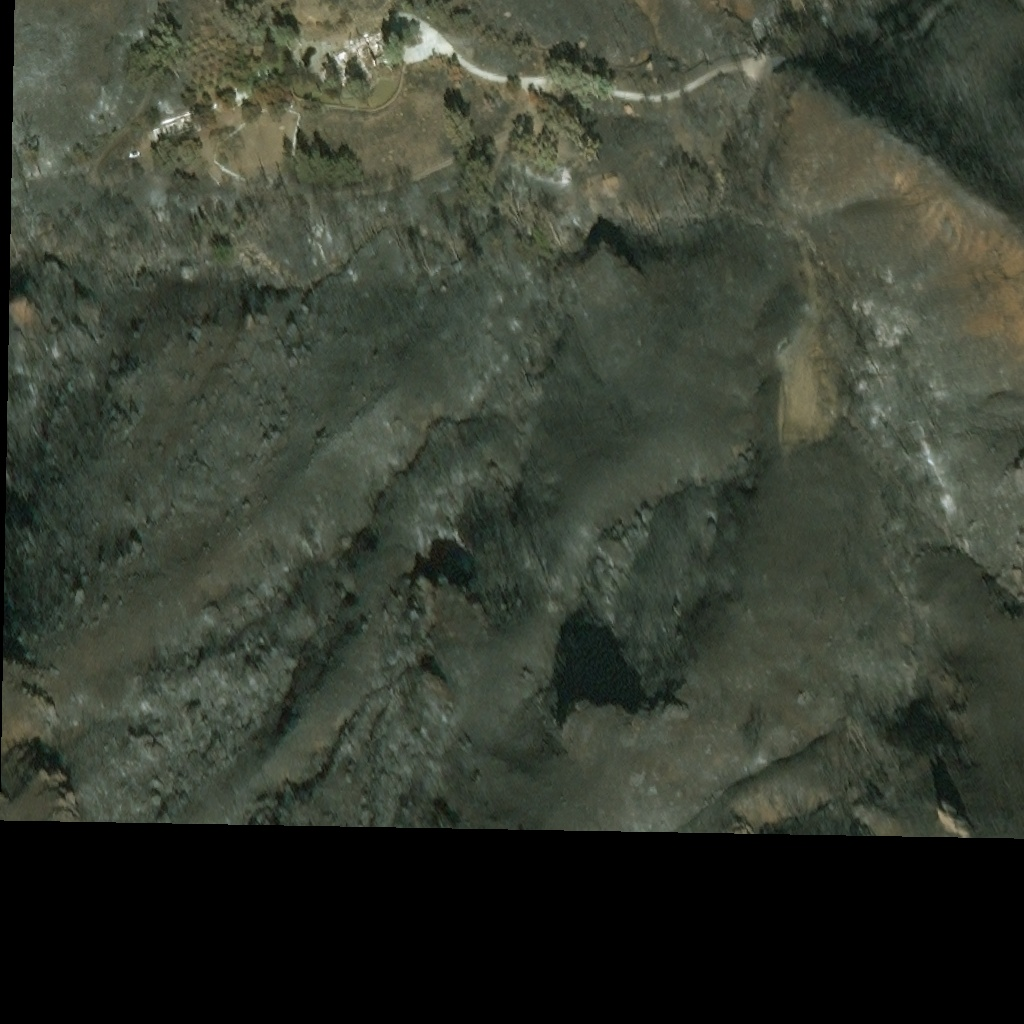3 destroyed: (319, 23, 398, 94), (160, 110, 197, 140)
4 un-classified: (196, 192, 222, 213)
